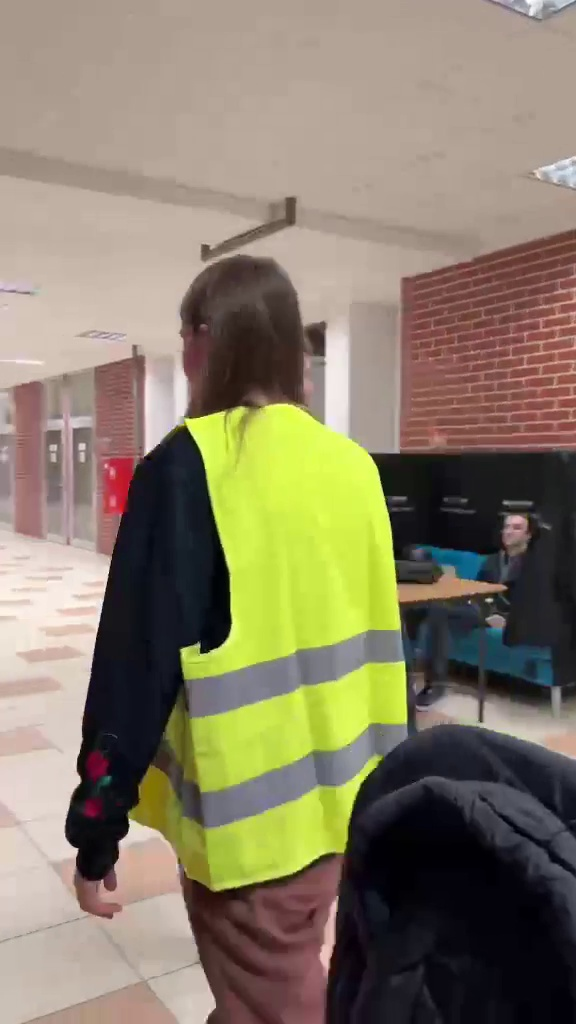no vest: (417, 498, 548, 705)
vest: (90, 259, 416, 1003)
